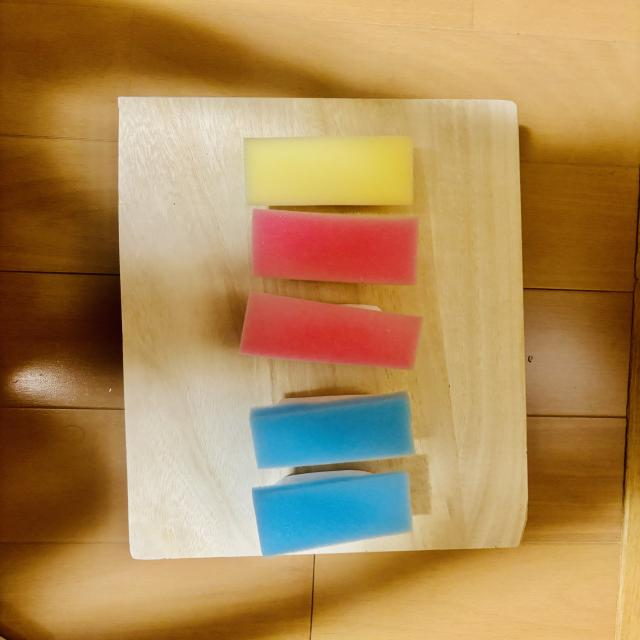ika: (252, 470, 412, 556), (250, 392, 415, 469)
tai: (239, 293, 422, 370), (251, 209, 418, 285)
tamago: (244, 136, 413, 206)
